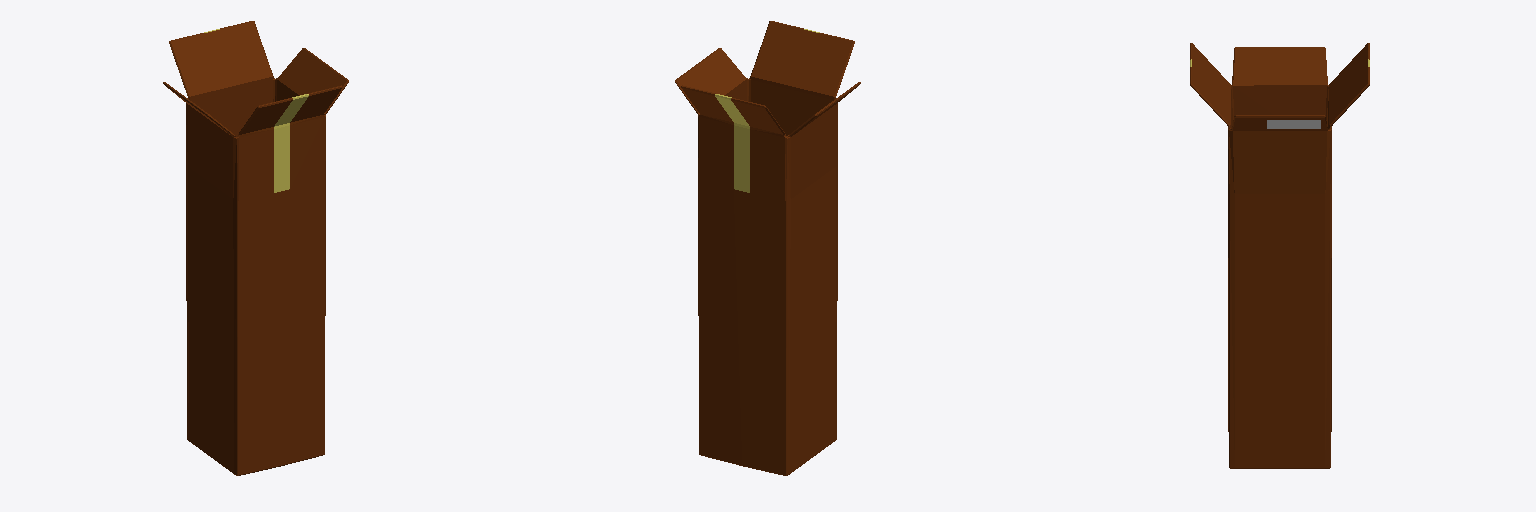
The model's file is Cardboard.025.obj.
3 views of the same model, side by side, from view 1: azimuth 30°, elevation 25°; view 2: azimuth 150°, elevation 25°; view 3: azimuth 270°, elevation 25° (orthographic).
Parts seen in each view (by area): view 1: Cardboard.025_Cube.010; view 2: Cardboard.025_Cube.010; view 3: Cardboard.025_Cube.010.
Boxes of the visible parts, <box> form: Cardboard.025_Cube.010: <box>163,21,348,475</box>; Cardboard.025_Cube.010: <box>675,21,860,475</box>; Cardboard.025_Cube.010: <box>1190,43,1369,468</box>.
Bounding box in the file's own units: 0.4241 × 1.1 × 0.4654.